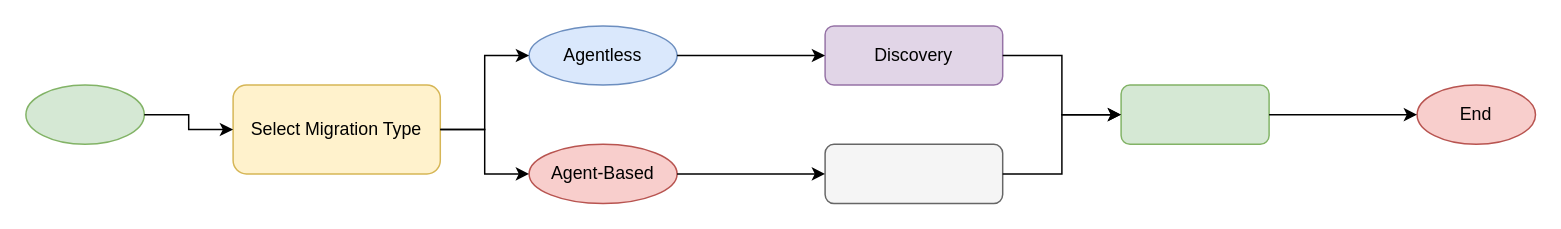
This 1561x229 diagram has some shape labels left out. The shapes that lost their labels are listed below. From the top down, each one's centre as x and y in pixels, then its label:
At (84,114): "Start".
At (1194,114): "Cutover".
At (913,173): "Replication".
